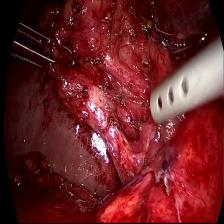Grasper: (11, 12, 74, 79)
Irrigator: (146, 49, 208, 133)
